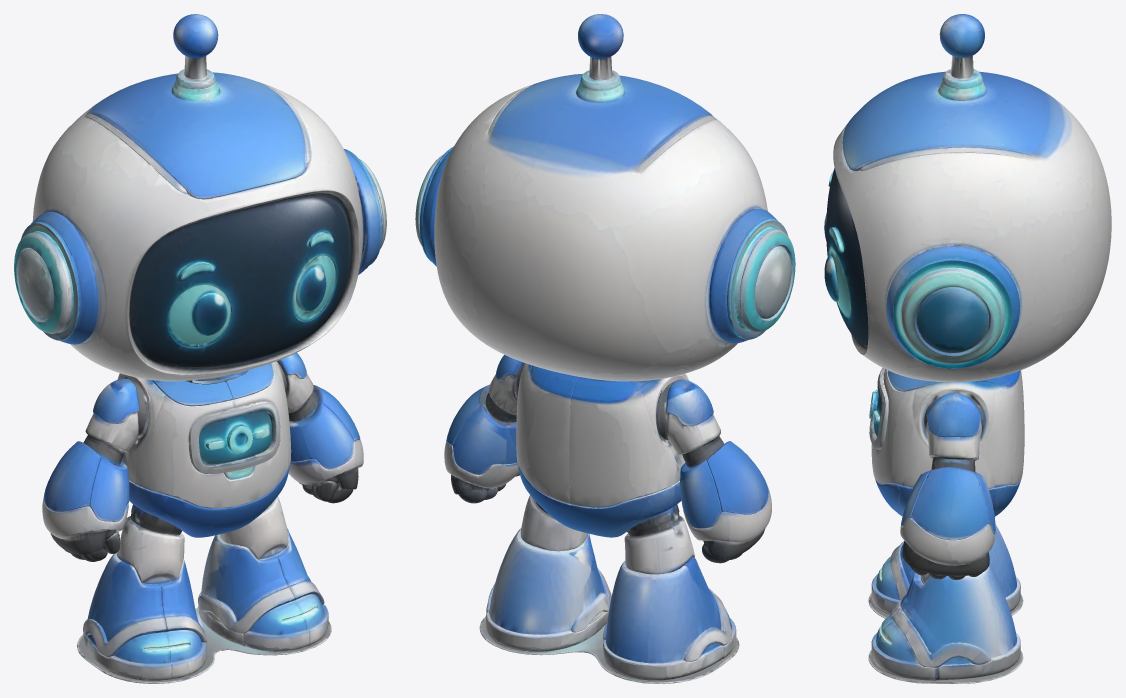
Rendered from doudou.glb.
The picture shows the model from 3 angles, left to right: view 1: azimuth 30°, elevation 25°; view 2: azimuth 150°, elevation 25°; view 3: azimuth 270°, elevation 25°; orthographic projection. The views are drawn at different scales.
Visible parts, largest first — view 1: geometry_0; view 2: geometry_0; view 3: geometry_0.
Part boxes in pixels (box(x1,y1,x2,y2)): geometry_0: box(14, 14, 386, 683); geometry_0: box(415, 14, 795, 683); geometry_0: box(824, 14, 1111, 683).
Size of the model in its own units: 0.6491 by 1.12 by 0.473.
1 material, 1 textured.
